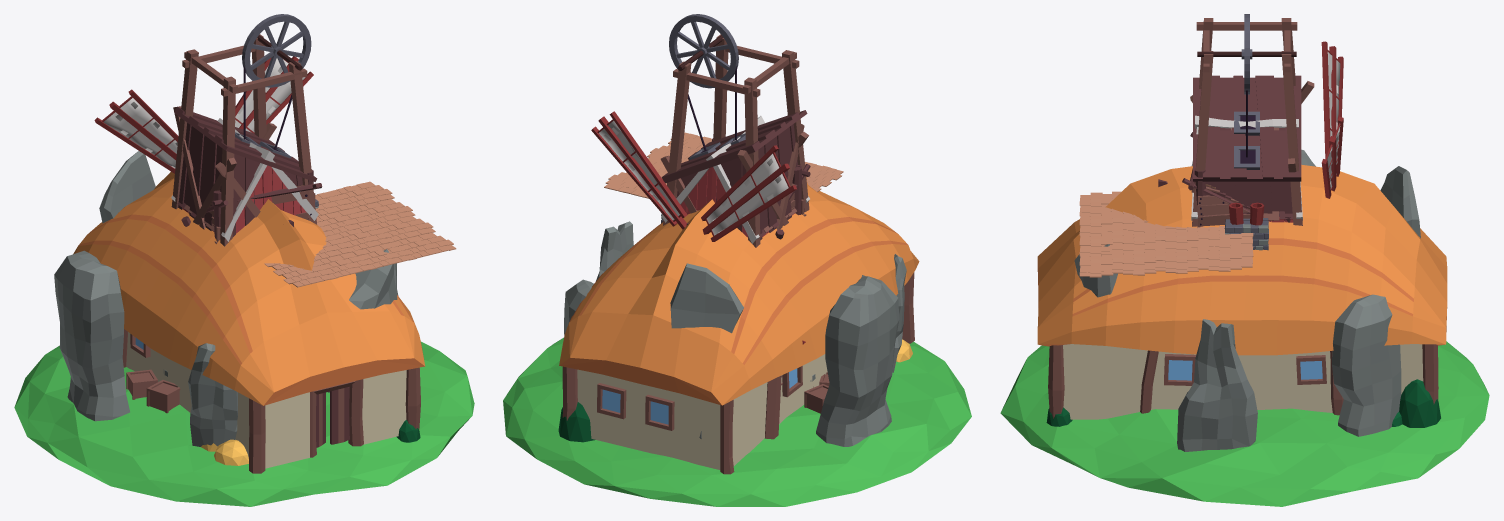
File: Buildings.fbx
3 views of the same model, side by side, from view 1: azimuth 30°, elevation 25°; view 2: azimuth 150°, elevation 25°; view 3: azimuth 270°, elevation 25° (orthographic). The views are drawn at different scales.
Parts seen in each view (by area): view 1: Barn, StoneCircleFloor, StoneCircleStones, Mine, Tiles, WindmillSails, WindmillBuilding, MineWheel, BuildingSite, Lookout; view 2: Barn, StoneCircleFloor, StoneCircleStones, Mine, WindmillSails, MineWheel, Tiles, WindmillBuilding, Lookout, BuildingSite; view 3: Barn, StoneCircleFloor, StoneCircleStones, Mine, Tiles, WindmillSails, Lookout, Bakery, WindmillBuilding, MineWheel.
Part boxes in pixels (<box>): Barn: <box>73,172,425,473</box>; StoneCircleFloor: <box>14,341,474,506</box>; StoneCircleStones: <box>54,151,398,446</box>; Mine: <box>171,34,329,392</box>; Tiles: <box>264,181,456,287</box>; WindmillSails: <box>94,56,313,173</box>; WindmillBuilding: <box>171,118,318,241</box>; MineWheel: <box>242,14,311,87</box>; BuildingSite: <box>126,369,180,413</box>; Lookout: <box>205,169,322,243</box>; Barn: <box>558,178,919,474</box>; StoneCircleFloor: <box>503,337,971,506</box>; StoneCircleStones: <box>564,221,906,446</box>; Mine: <box>660,34,809,247</box>; WindmillSails: <box>591,111,805,344</box>; MineWheel: <box>669,14,738,88</box>; Tiles: <box>604,132,843,198</box>; WindmillBuilding: <box>661,116,809,243</box>; Lookout: <box>712,138,810,218</box>; BuildingSite: <box>804,372,829,413</box>; Barn: <box>1037,164,1447,427</box>; StoneCircleFloor: <box>1000,341,1489,506</box>; StoneCircleStones: <box>1074,149,1420,451</box>; Mine: <box>1190,18,1314,226</box>; Tiles: <box>1079,191,1253,277</box>; WindmillSails: <box>1321,41,1343,198</box>; Lookout: <box>1182,132,1290,227</box>; Bakery: <box>1158,179,1268,250</box>; WindmillBuilding: <box>1191,115,1302,222</box>; MineWheel: <box>1197,14,1296,94</box>.
Size of the model in its own units: 1198 by 1106 by 1213.
